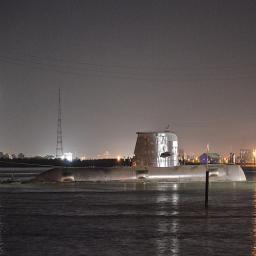submarine: (2, 130, 250, 182)
